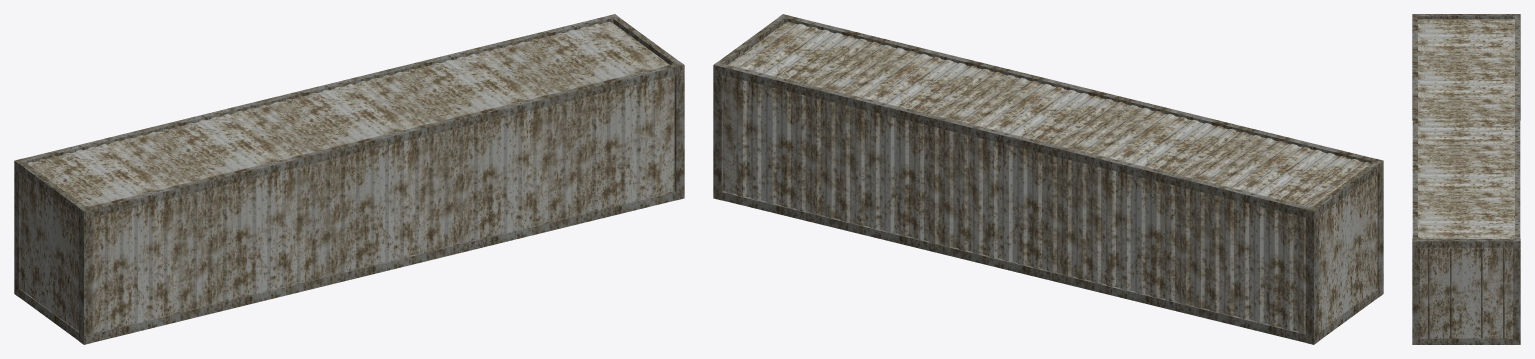
Rendered from container.glb.
The picture shows the model from 3 angles, left to right: view 1: azimuth 30°, elevation 25°; view 2: azimuth 150°, elevation 25°; view 3: azimuth 270°, elevation 25°; orthographic projection. The views are drawn at different scales.
Parts seen in each view (by area): view 1: container; view 2: container; view 3: container.
Part boxes in pixels (bbox=[...]): container: bbox=[14, 14, 684, 344]; container: bbox=[713, 14, 1383, 344]; container: bbox=[1412, 14, 1520, 344].
Size of the model in its own units: 12.21 by 2.59 by 2.45.
1 material, 1 textured.
